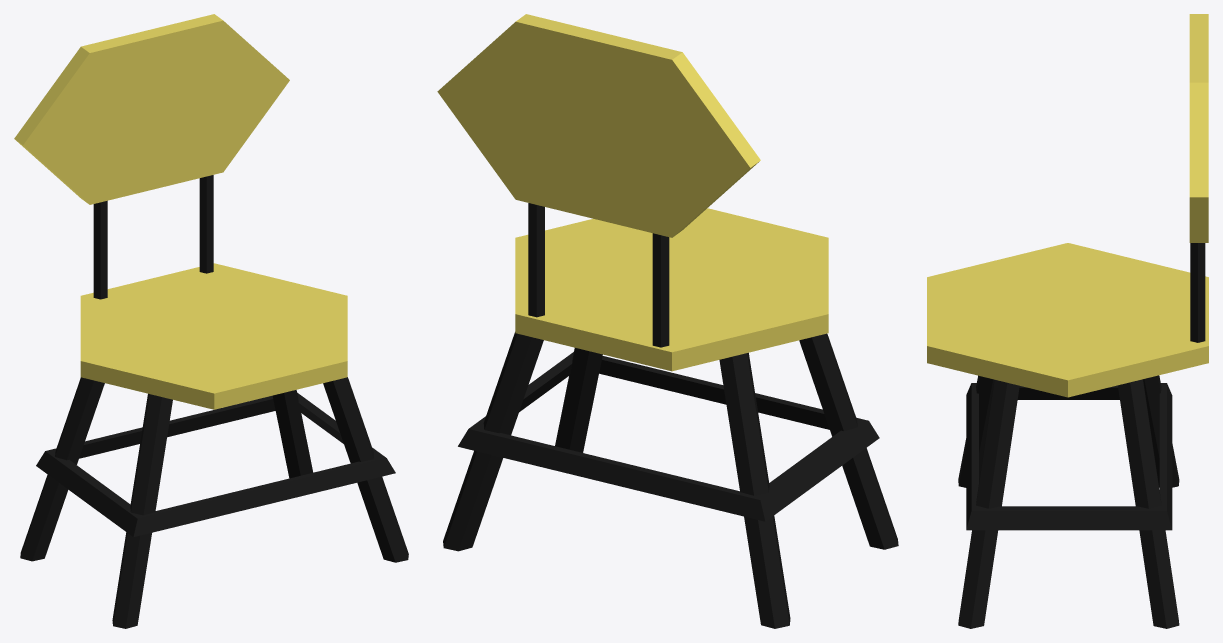
File: Chair.fbx
The picture shows the model from 3 angles, left to right: view 1: azimuth 30°, elevation 25°; view 2: azimuth 150°, elevation 25°; view 3: azimuth 270°, elevation 25°; orthographic projection. The views are drawn at different scales.
Parts seen in each view (by area): view 1: Cylinder.019, Cylinder.018, Cube.007, Cylinder.026; view 2: Cylinder.019, Cube.007, Cylinder.018, Cylinder.026; view 3: Cylinder.018, Cube.007, Cylinder.019, Cylinder.026.
Part boxes in pixels (x1=…): Cylinder.019: x1=14, y1=14, x2=289, y2=204; Cylinder.018: x1=80, y1=263, x2=347, y2=409; Cube.007: x1=20, y1=377, x2=408, y2=628; Cylinder.026: x1=93, y1=175, x2=213, y2=299; Cylinder.019: x1=437, y1=14, x2=760, y2=237; Cube.007: x1=443, y1=332, x2=898, y2=628; Cylinder.018: x1=515, y1=208, x2=828, y2=371; Cylinder.026: x1=528, y1=203, x2=669, y2=347; Cylinder.018: x1=927, y1=243, x2=1208, y2=397; Cube.007: x1=958, y1=375, x2=1179, y2=628; Cylinder.019: x1=1189, y1=14, x2=1208, y2=242; Cylinder.026: x1=1190, y1=243, x2=1205, y2=342.
Bounding box in the file's own units: 31.28 × 48.25 × 24.46.
